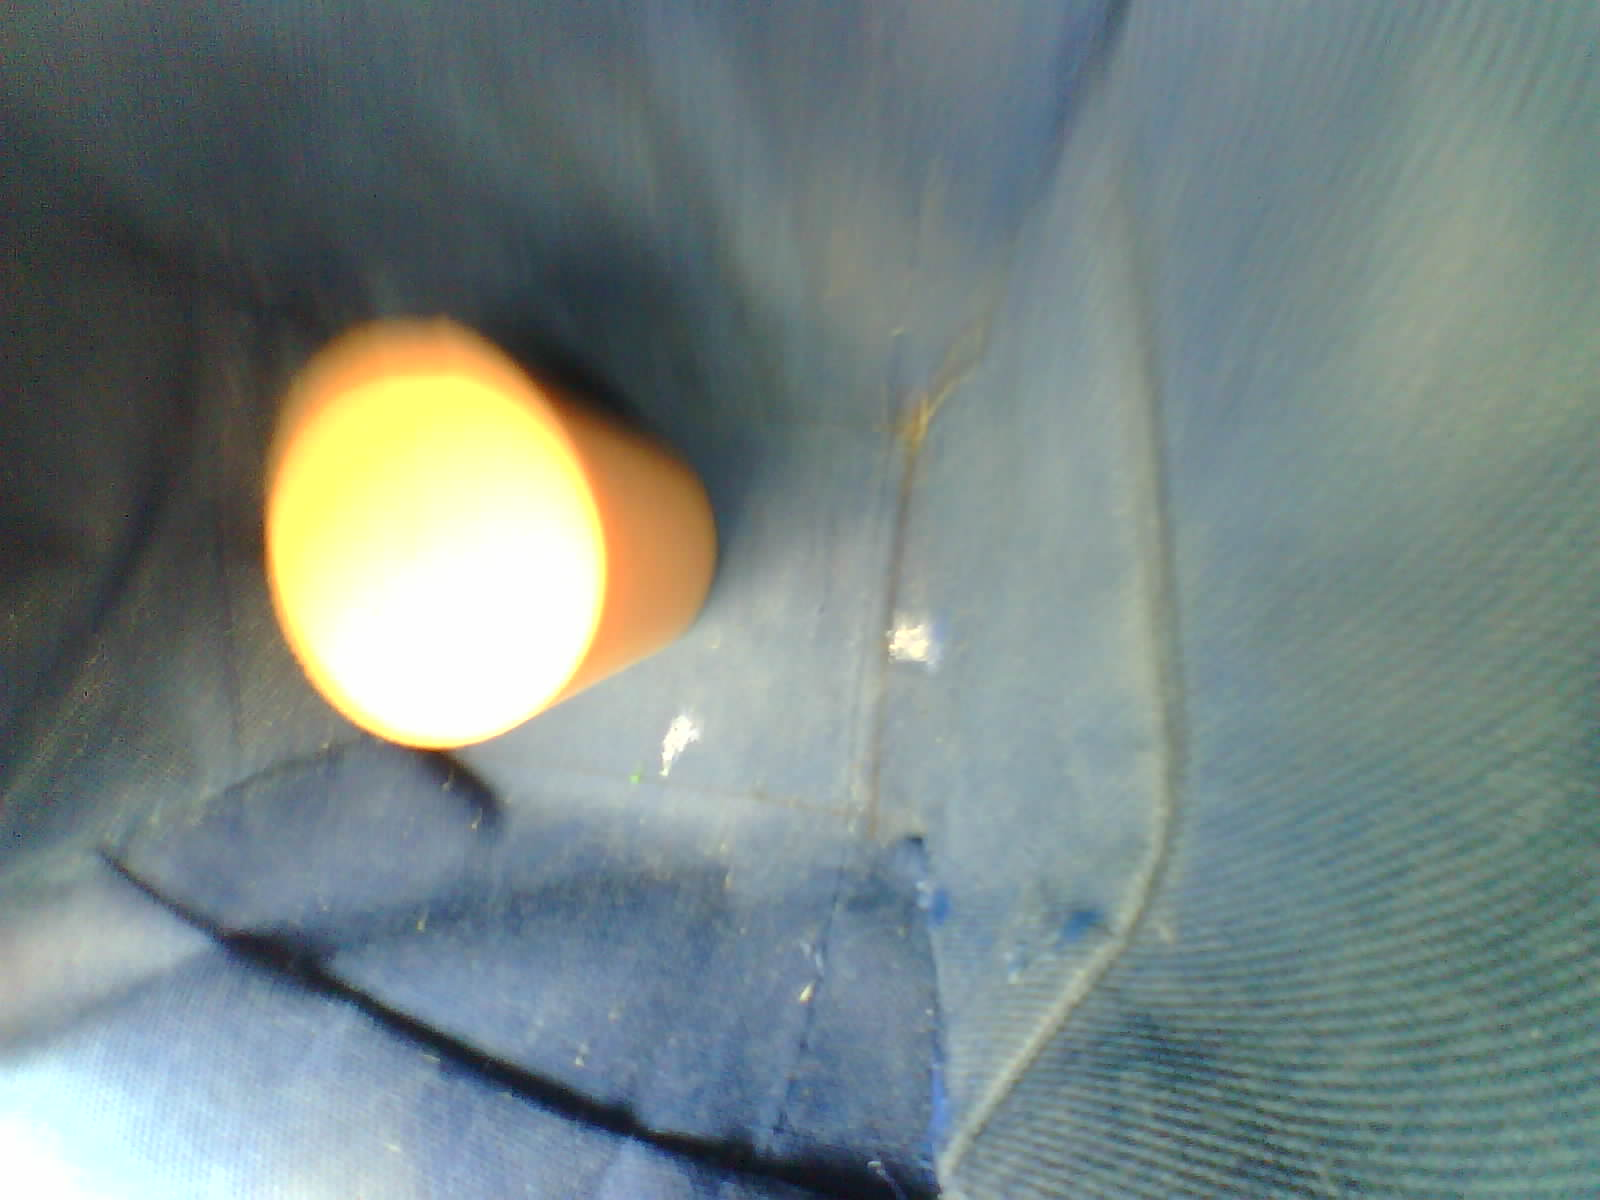cylinder-soft: (242, 300, 736, 773)
